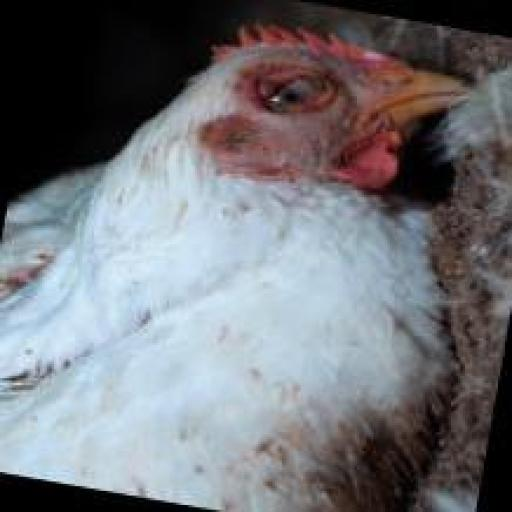disease: (242, 55, 349, 123)
